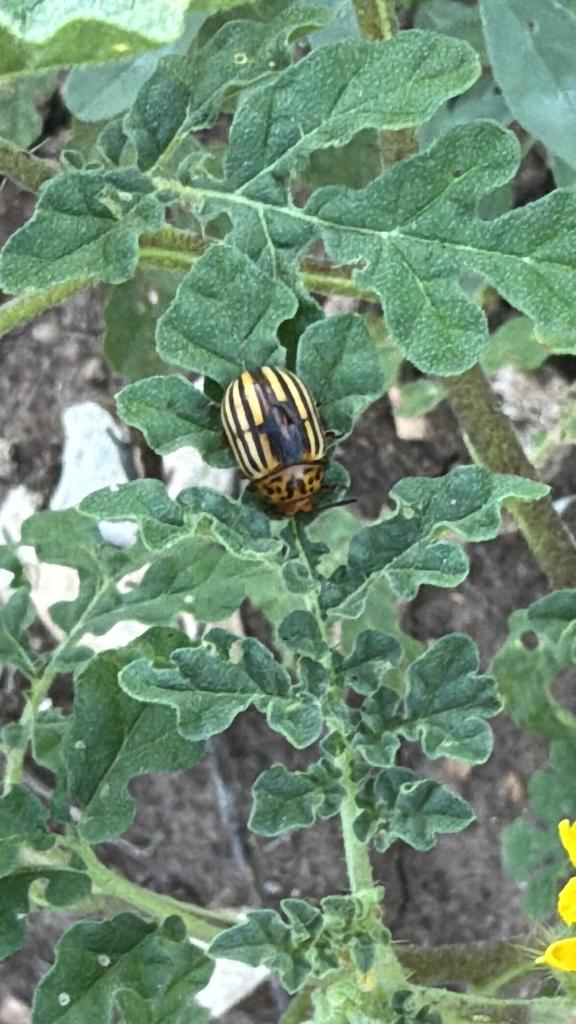potato_beetle: (178, 314, 383, 536)
